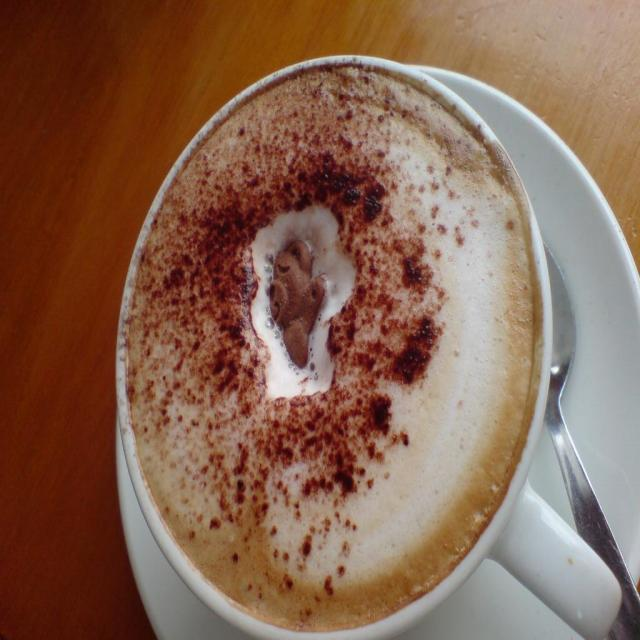Coffee: (117, 59, 545, 633)
